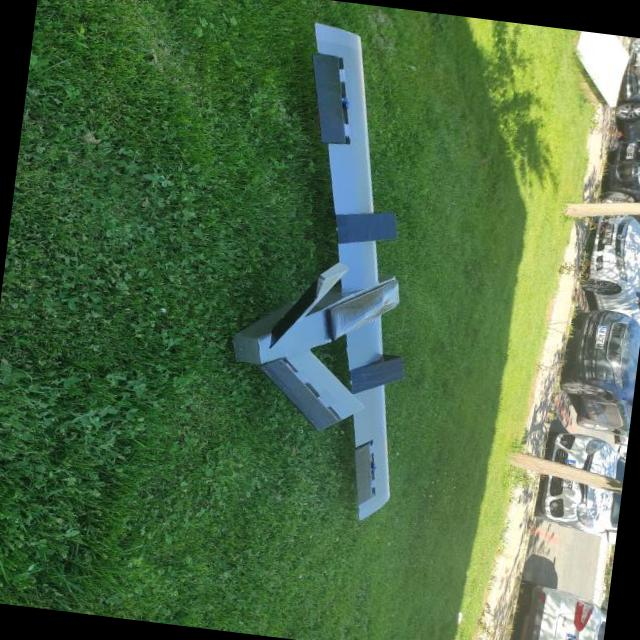UAV: (143, 5, 442, 584)
